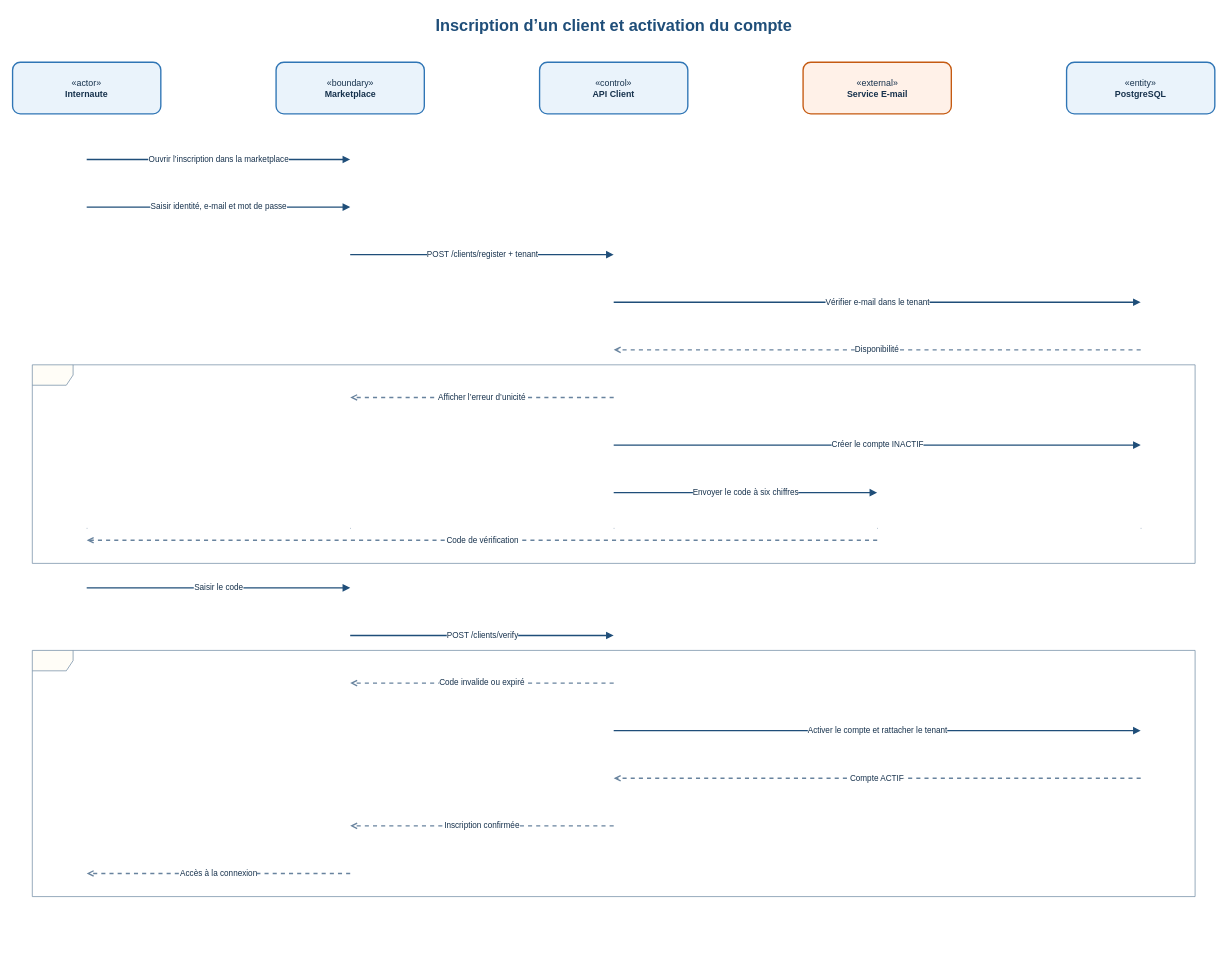
Image size: 1227x955. Some labels were removed from this diagram. Each missing label, with the centre of its shape:
"alt [code invalide]" goes at (613,773).
"alt [e-mail déjà utilisé]" goes at (613,463).
